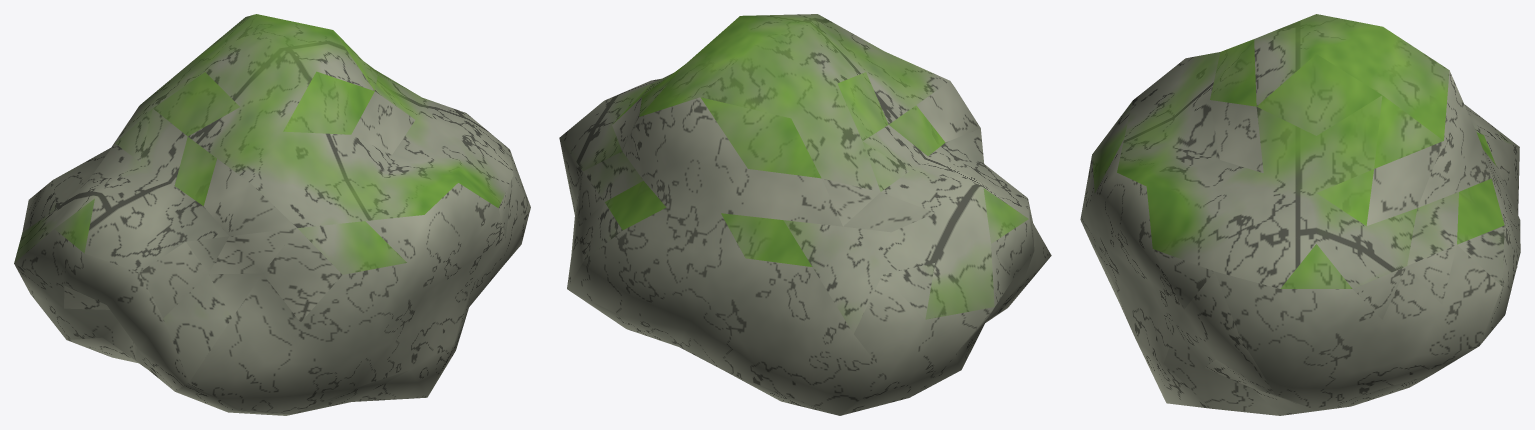
Rendered from Rock_Small.fbx.
3 renders of one model, left to right at view 1: azimuth 30°, elevation 25°; view 2: azimuth 150°, elevation 25°; view 3: azimuth 270°, elevation 25°, orthographic. The views are drawn at different scales.
Visible parts, largest first — view 1: Rock_Small.001; view 2: Rock_Small.001; view 3: Rock_Small.001.
Part boxes in pixels (bbox=[...]): Rock_Small.001: bbox=[14, 14, 530, 415]; Rock_Small.001: bbox=[559, 14, 1051, 415]; Rock_Small.001: bbox=[1080, 14, 1520, 415].
Size of the model in its own units: 0.7719 by 0.5296 by 0.6145.
